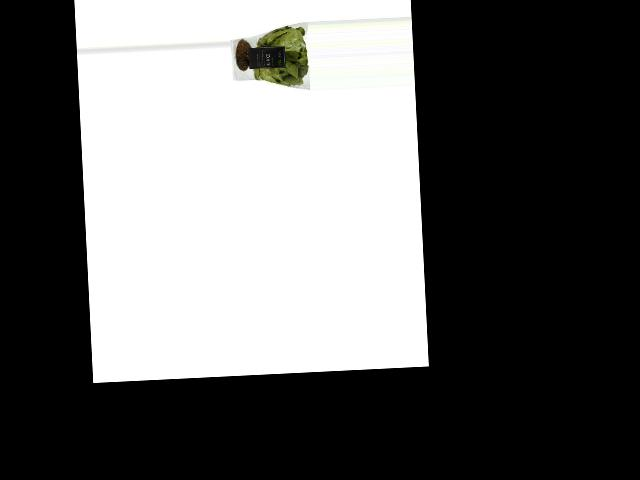lettuce: (229, 22, 310, 92)
